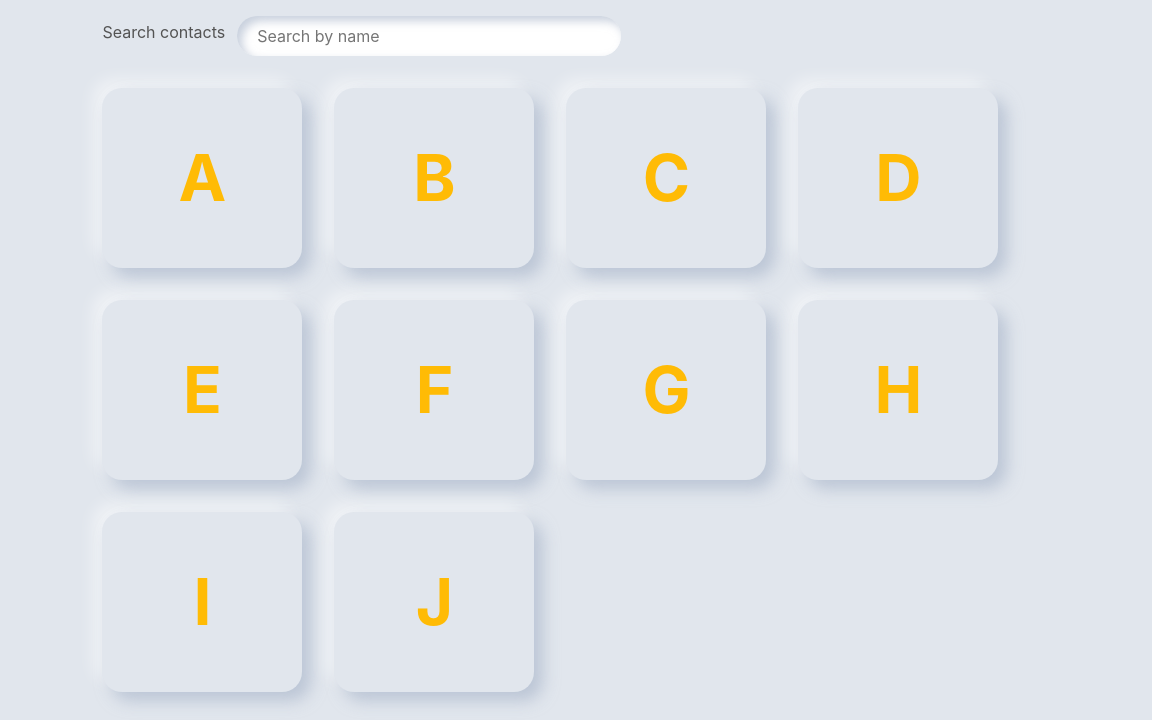
contact search › shows a message when no contact matches the search
The image size is (1152, 720).
Step 1. Type "zzz" into the search field labelled "Search contacts" → (429, 36), box [237,16,621,56]
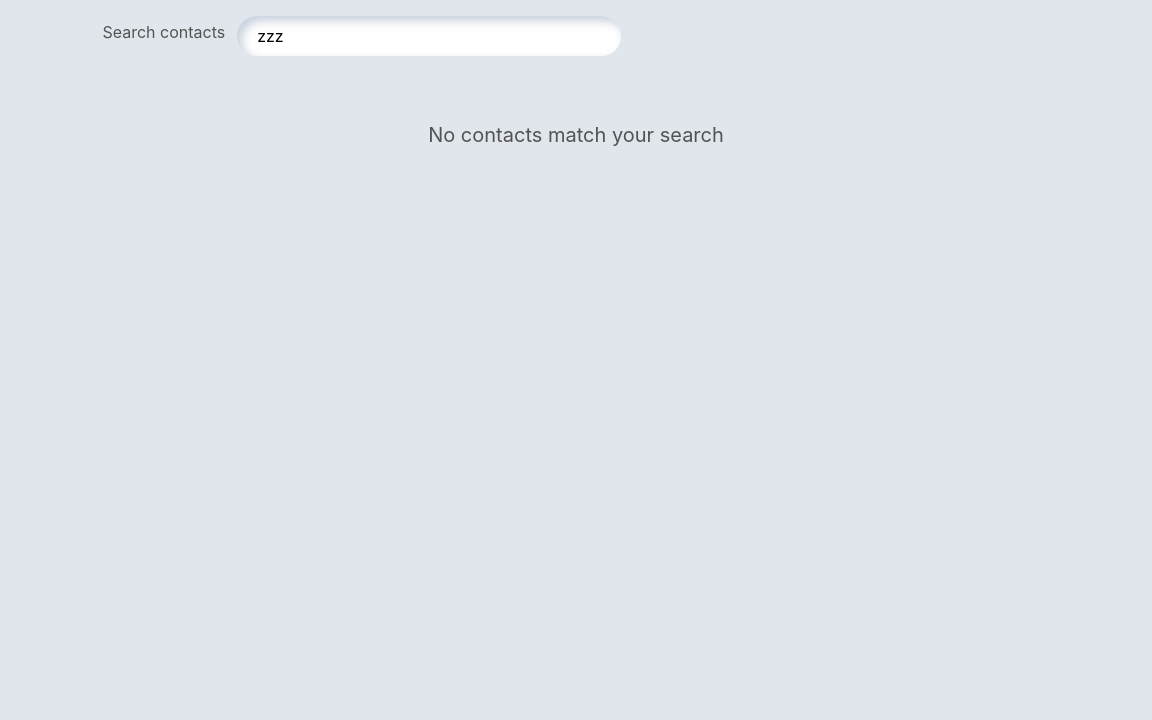
expect the text "No contacts match your search" is shown: met, box [428,123,724,147]
